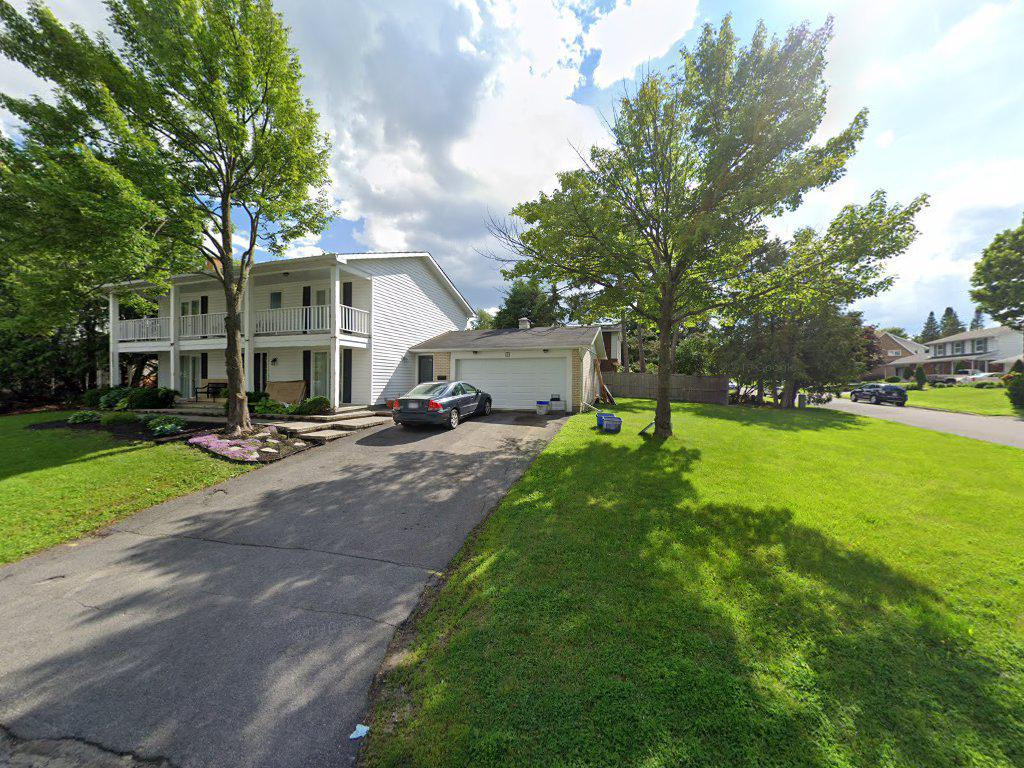trunk: (218, 246, 259, 446), (655, 297, 673, 449)
